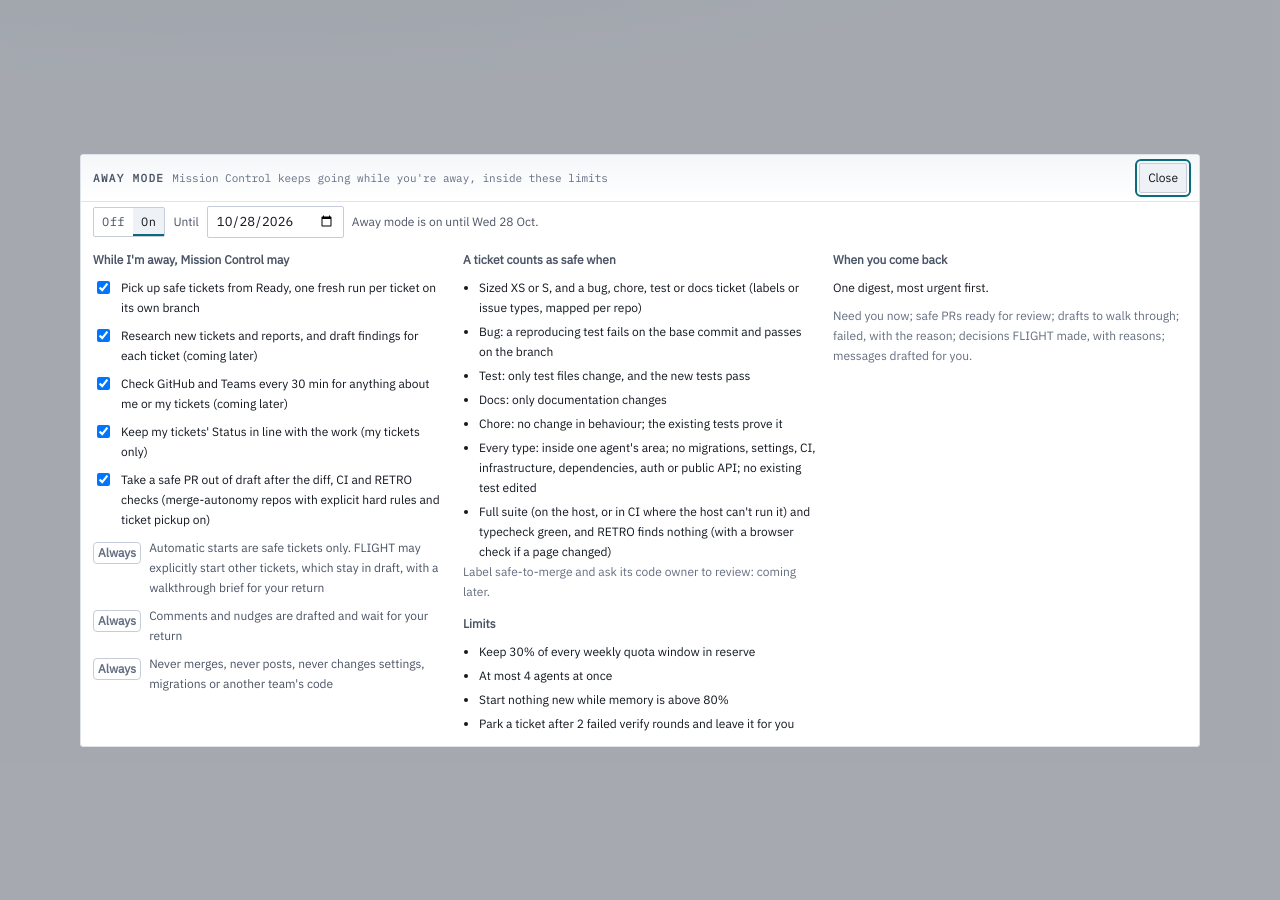
Test: AwayModal › changing the date saves the whole record
In the date field labelled "Until": (275, 222) [207,206,344,238], type "2026-11-01"
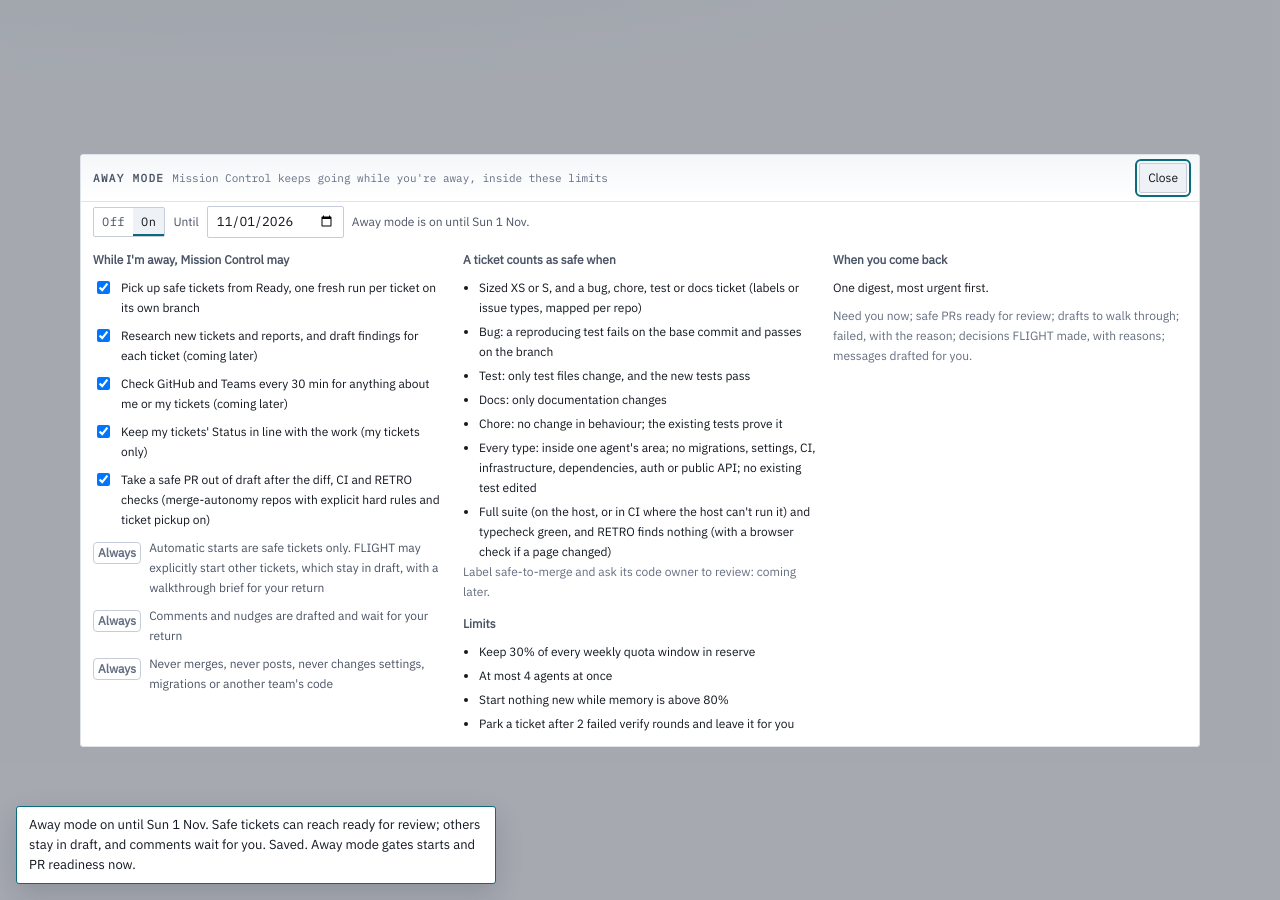
Expected: the message with id "toast" shows "until Sun 1 Nov", [29,816,480,873]
